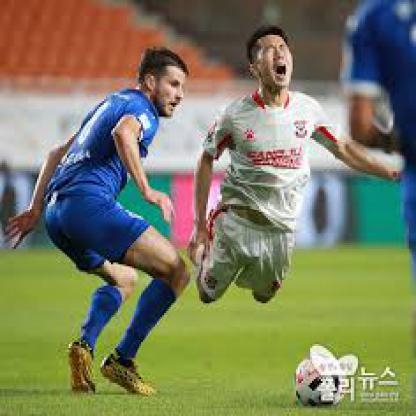Fall_Down: (184, 22, 404, 306)
